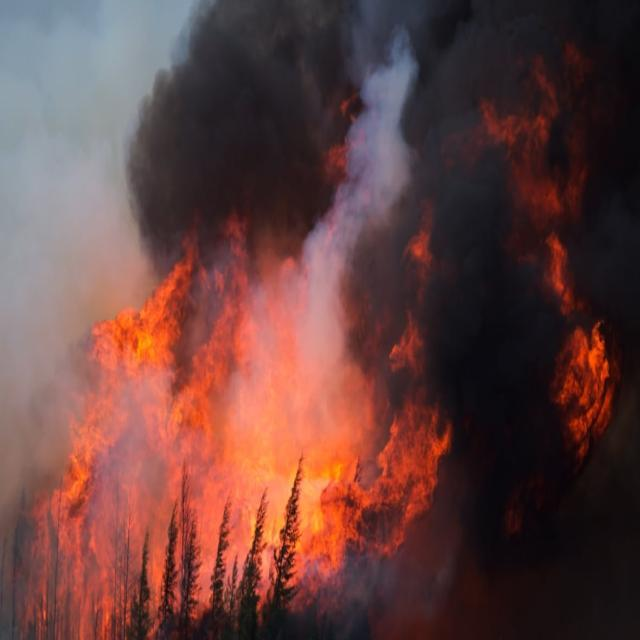Fire: (9, 175, 454, 640), (452, 29, 626, 462)
Smoke: (99, 0, 640, 425), (350, 0, 640, 621), (0, 0, 191, 524), (223, 27, 430, 457)
